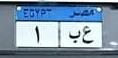1: (33, 24, 43, 43)
ain: (82, 25, 94, 44)
baa: (67, 28, 82, 45)
